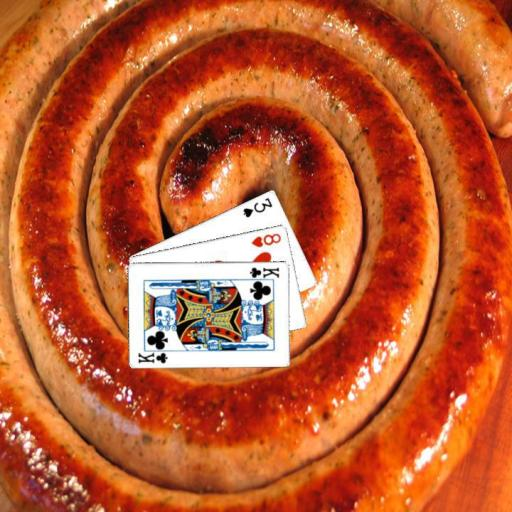3S: (240, 194, 274, 219)
8H: (248, 230, 282, 249)
KC: (136, 346, 173, 364), (244, 264, 280, 282)
